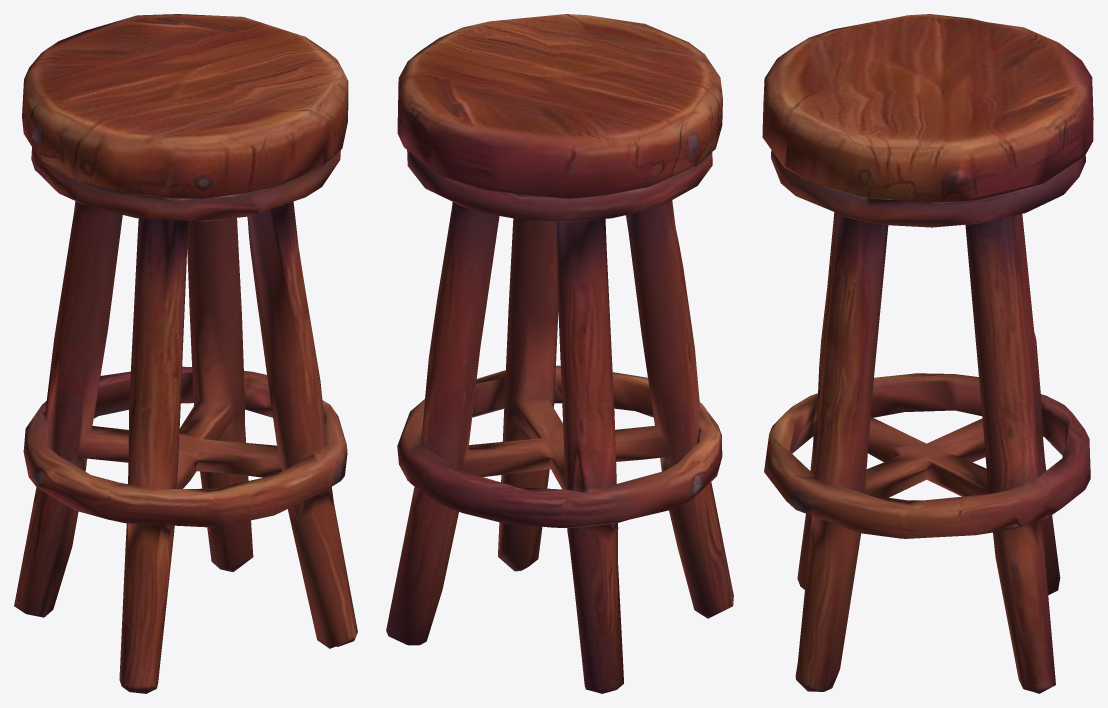
Rendered from 吧台椅.glb.
3 views of the same model, side by side, from view 1: azimuth 30°, elevation 25°; view 2: azimuth 150°, elevation 25°; view 3: azimuth 270°, elevation 25° (orthographic). The views are drawn at different scales.
Visible parts, largest first — view 1: tripo_node_ce160981-28d6-4518-977a-52f6e9bf53b1; view 2: tripo_node_ce160981-28d6-4518-977a-52f6e9bf53b1; view 3: tripo_node_ce160981-28d6-4518-977a-52f6e9bf53b1.
Part boxes in pixels (<box>): tripo_node_ce160981-28d6-4518-977a-52f6e9bf53b1: <box>14,14,357,693</box>; tripo_node_ce160981-28d6-4518-977a-52f6e9bf53b1: <box>386,14,733,693</box>; tripo_node_ce160981-28d6-4518-977a-52f6e9bf53b1: <box>762,14,1093,693</box>.
Size of the model in its own units: 0.5443 by 1 by 0.5305.
1 material, 1 textured.
